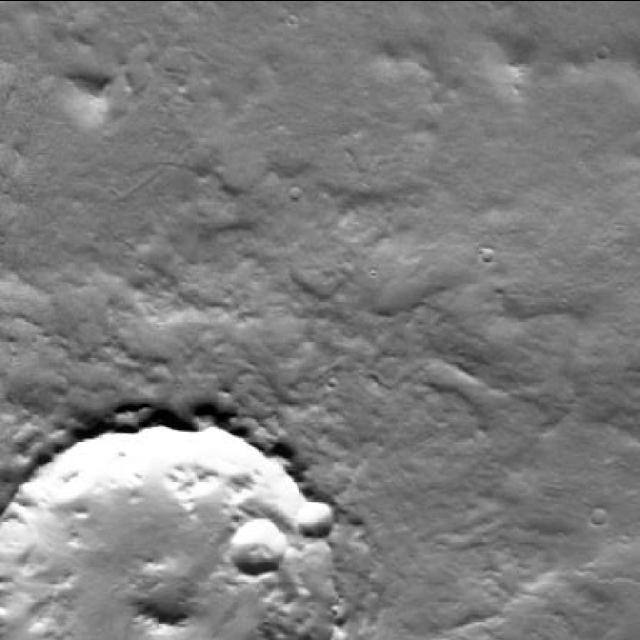crater: (0, 404, 336, 640), (232, 518, 286, 574), (296, 496, 334, 536), (589, 508, 606, 526)
